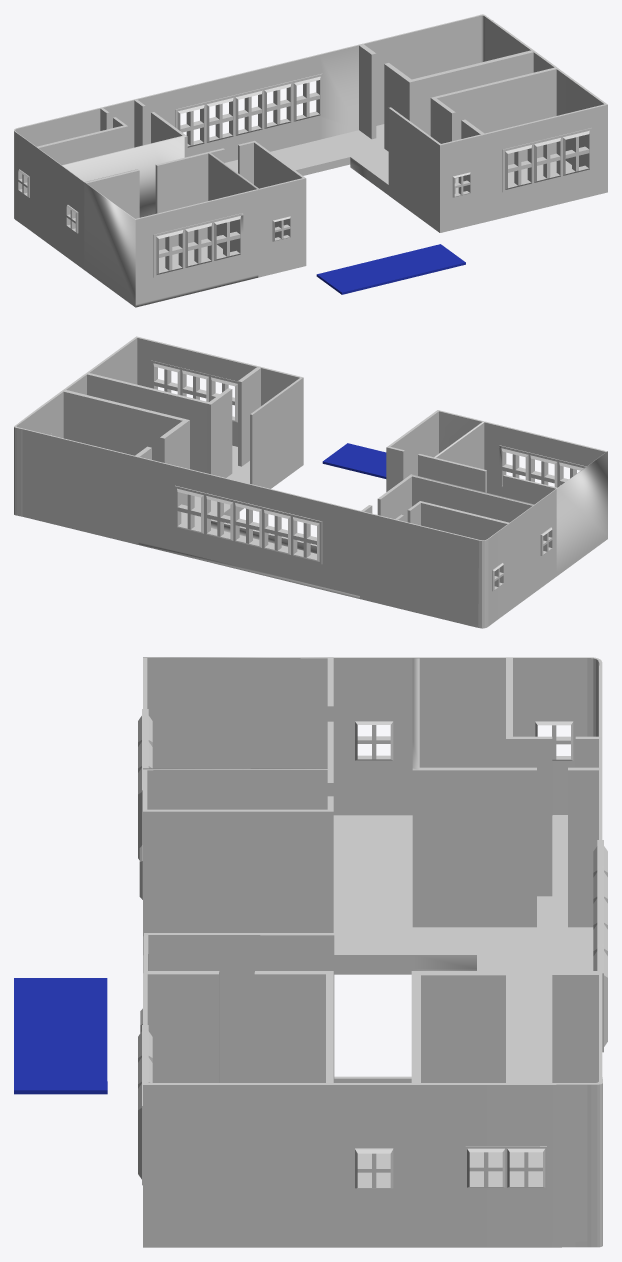
Rendered from RemadeManorfinalwhite.fbx.
3 views of the same model, one above another, from view 1: azimuth 30°, elevation 25°; view 2: azimuth 150°, elevation 25°; view 3: azimuth 270°, elevation 25° (orthographic). The views are drawn at different scales.
Parts seen in each view (by area): view 1: HallwayWalls, Bedroom, BottomR, Libary, TopR, Bathroom, TopROuterWalls, HallwayWindowMain, LibaryStudy, 1roomPre, BedroomWindow, BottomRRoomWindow (+5 smaller); view 2: HallwayWalls, TopR, LibaryStudy, Libary, Bedroom, BottomROuterWalls, HallwayWindowMain, BottomR, Bathroom, BedroomOuterWalls, BottomRRoomWindow, BedroomWindow (+6 smaller); view 3: HallwayWalls, BottomR, TopR, HallwayF, LibaryOuterWalls, Bedroom, Libary, 1roomPre, LibaryStudy, Bathroom, LibaryStudyOuterWalls, HallwayBanister (+10 smaller).
Boxes of the visible parts, x1,y1,x2,y2 form: HallwayWalls: (63,45,556,269); Bedroom: (84,152,259,307); BottomR: (431,67,607,222); Libary: (37,99,187,253); TopR: (358,14,535,148); Bathroom: (209,140,306,277); TopROuterWalls: (359,45,533,151); HallwayWindowMain: (175,73,322,149); LibaryStudy: (14,107,127,235); 1roomPre: (316,244,465,294); BedroomWindow: (153,213,243,277); BottomRRoomWindow: (502,128,592,192); HallwayWalls: (64,367,556,598); TopR: (14,389,189,544); LibaryStudy: (394,501,510,628); Libary: (360,474,535,610); Bedroom: (432,421,607,576); BottomROuterWalls: (87,368,260,477); HallwayWindowMain: (175,485,322,564); BottomR: (85,336,261,473); Bathroom: (386,410,482,479); BedroomOuterWalls: (434,459,555,504); BottomRRoomWindow: (151,360,237,424); BedroomWindow: (499,445,586,488); HallwayWalls: (143,657,602,1247); BottomR: (143,971,333,1247); TopR: (411,971,602,1247); HallwayF: (333,815,593,1180); LibaryOuterWalls: (419,770,598,927); Bedroom: (143,657,333,770); Libary: (412,657,602,927); 1roomPre: (14,978,107,1094); LibaryStudy: (506,657,602,896); Bathroom: (143,770,333,811); LibaryStudyOuterWalls: (513,739,598,896); HallwayBanister: (334,953,481,1082).
Bounding box in the file's own units: 10921 × 2000 × 6339.
